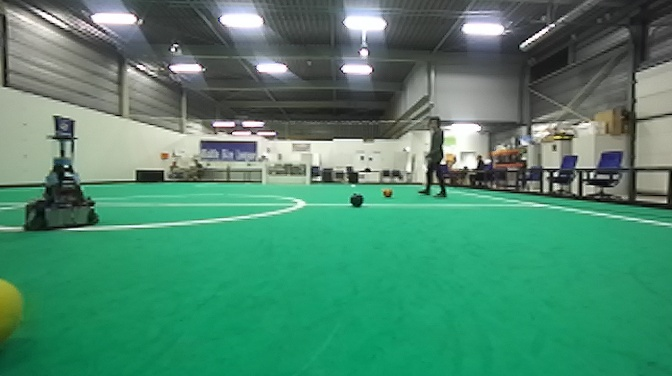ball: (1, 275, 30, 348), (348, 191, 366, 213), (380, 187, 393, 201)
goal: (260, 164, 312, 186)
goalpost: (305, 164, 312, 189), (260, 163, 266, 185)
human: (414, 113, 451, 198)
robot: (18, 108, 102, 233)
